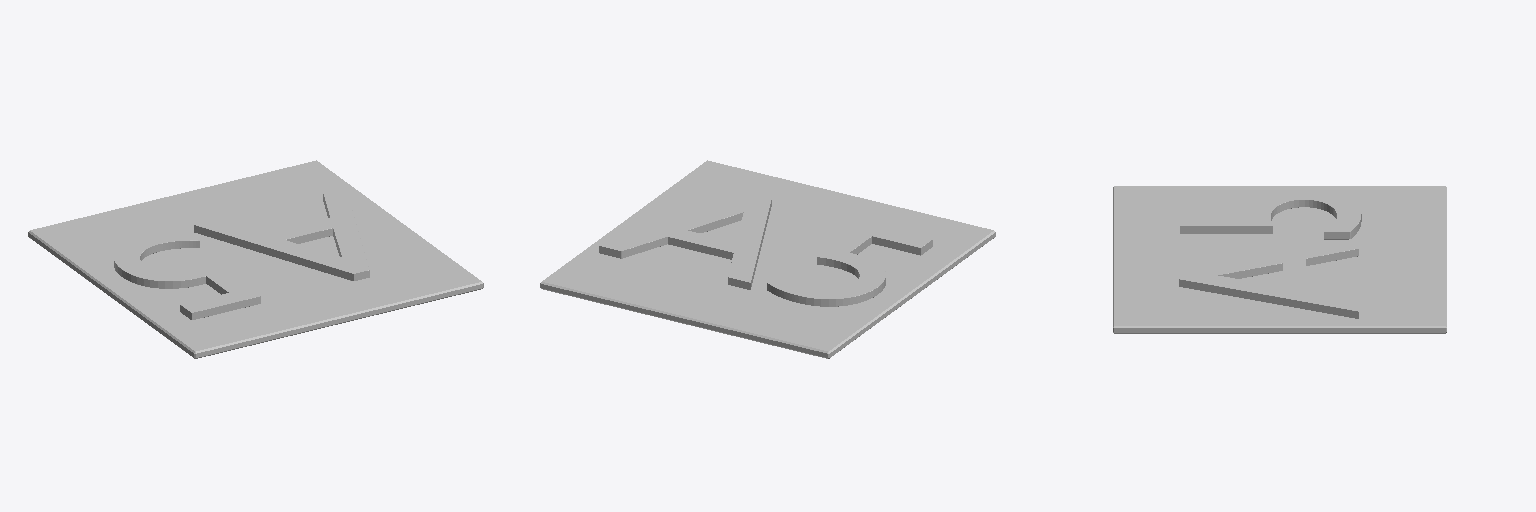
File: panel_A5.obj
3 views of the same model, side by side, from view 1: azimuth 30°, elevation 25°; view 2: azimuth 150°, elevation 25°; view 3: azimuth 270°, elevation 25° (orthographic).
Visible parts, largest first — view 1: Plane, Text; view 2: Plane, Text; view 3: Plane, Text.
Part boxes in pixels (x1,y1,x2,y2): Plane: (28,160,483,358); Text: (114,188,369,319); Plane: (540,160,995,358); Text: (599,196,932,306); Plane: (1113,186,1446,333); Text: (1179,189,1361,318).
Bounding box in the file's own units: 4 × 0.2 × 4.